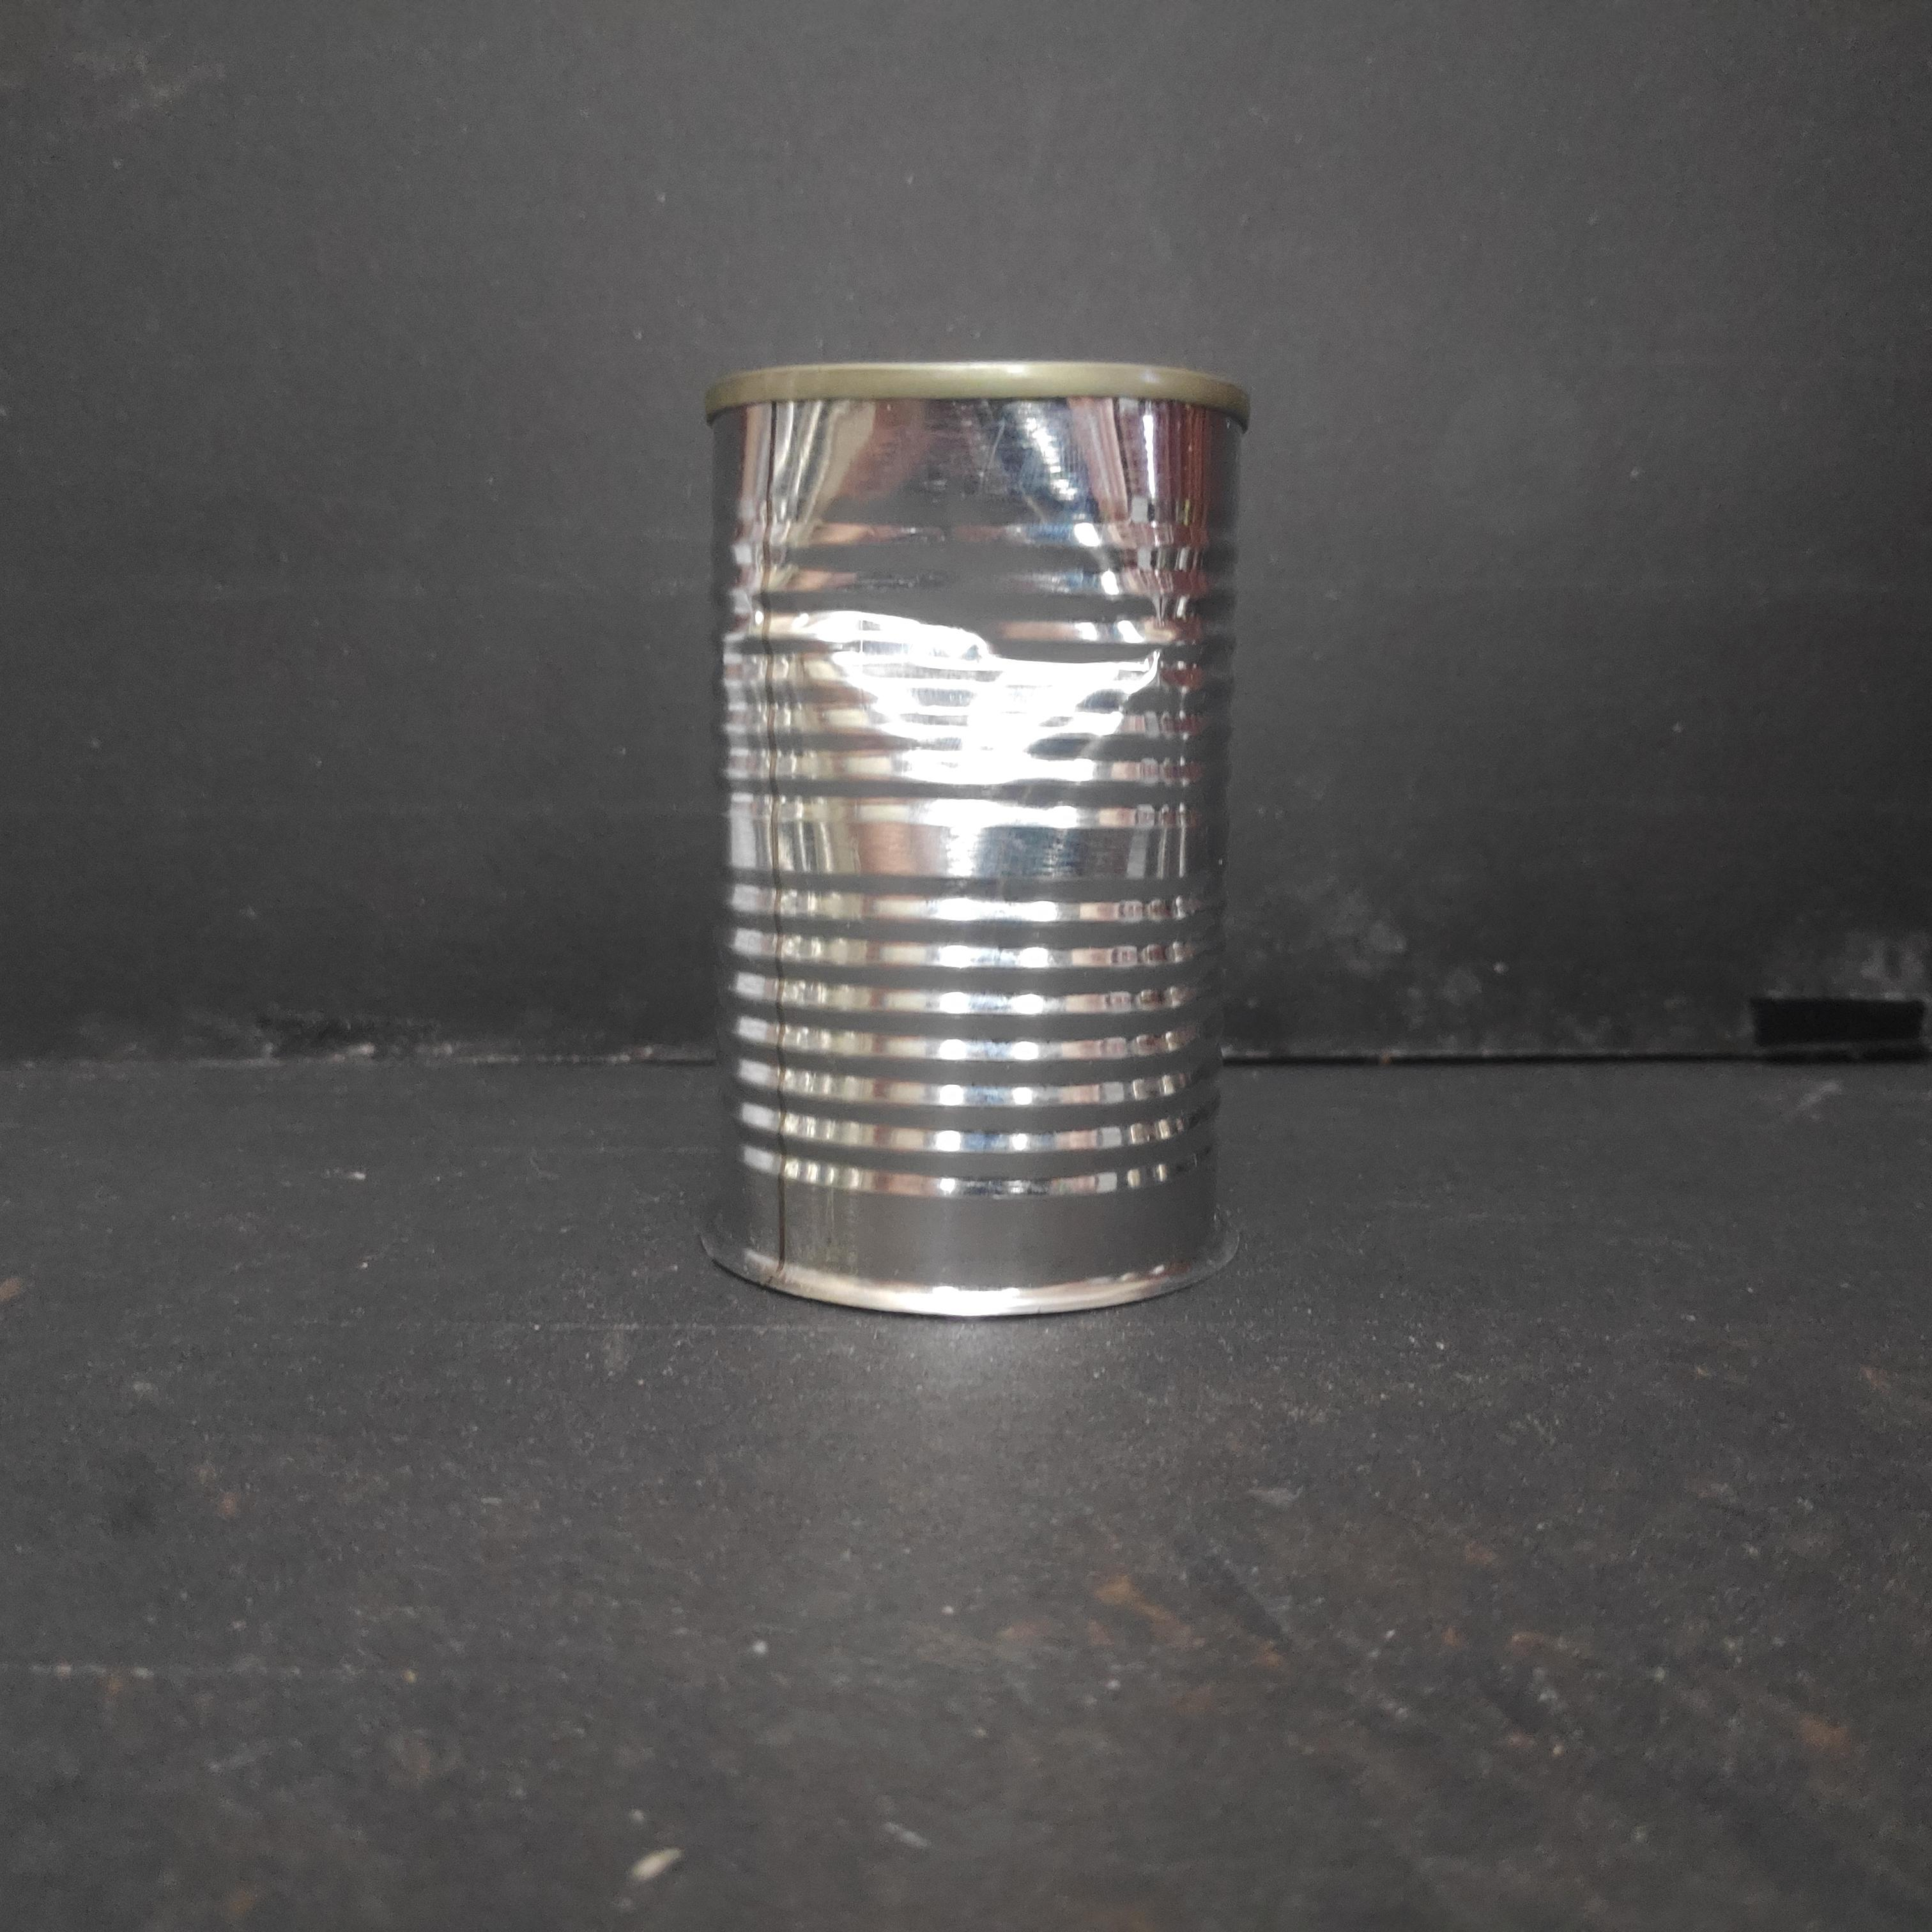Minor Defect: (688, 343, 1261, 1332)
